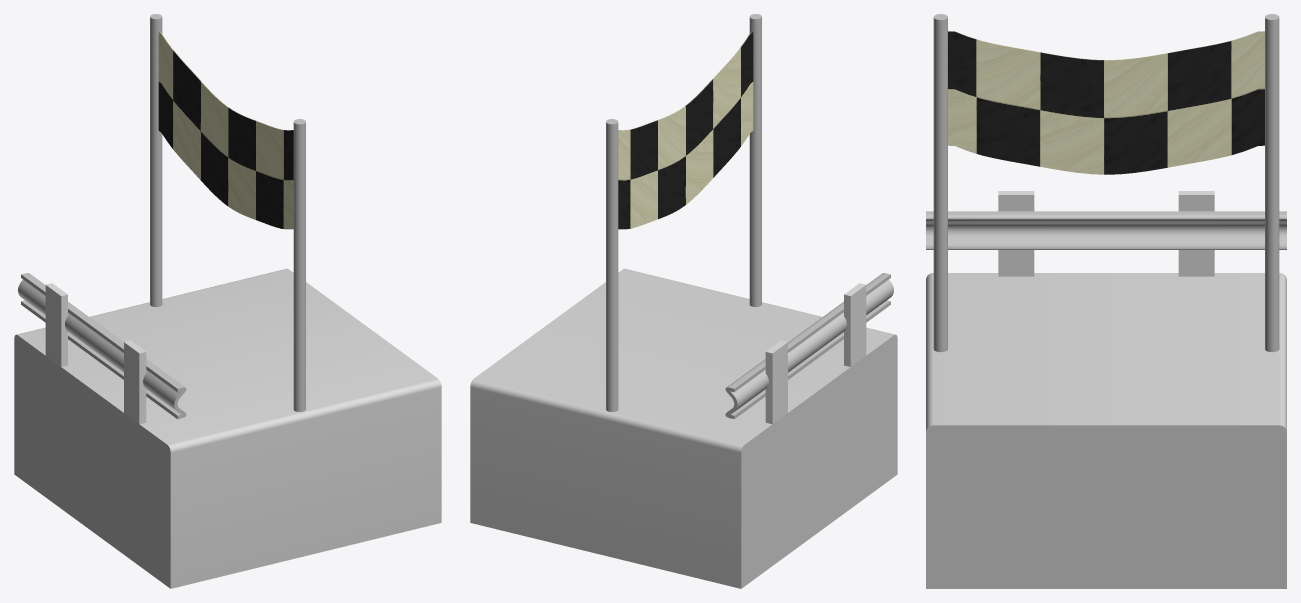
Rendered from FinishLine.fbx.
The picture shows the model from 3 angles, left to right: view 1: azimuth 30°, elevation 25°; view 2: azimuth 150°, elevation 25°; view 3: azimuth 270°, elevation 25°; orthographic projection. The views are drawn at different scales.
Parts seen in each view (by area): view 1: Cube.007; view 2: Cube.007; view 3: Cube.007.
Part boxes in pixels (x1,y1,x2,y2): Cube.007: (14,14,441,588); Cube.007: (470,14,897,588); Cube.007: (926,14,1286,588).
Size of the model in its own units: 400 by 606 by 400.
